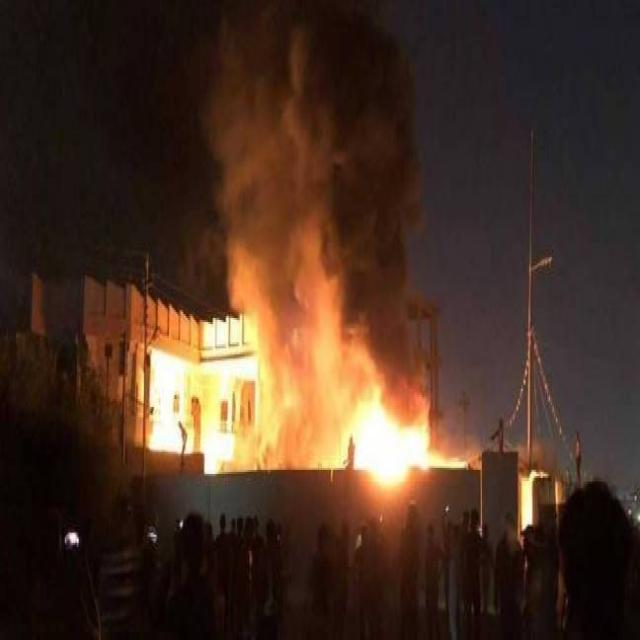smoke: (244, 36, 342, 433)
